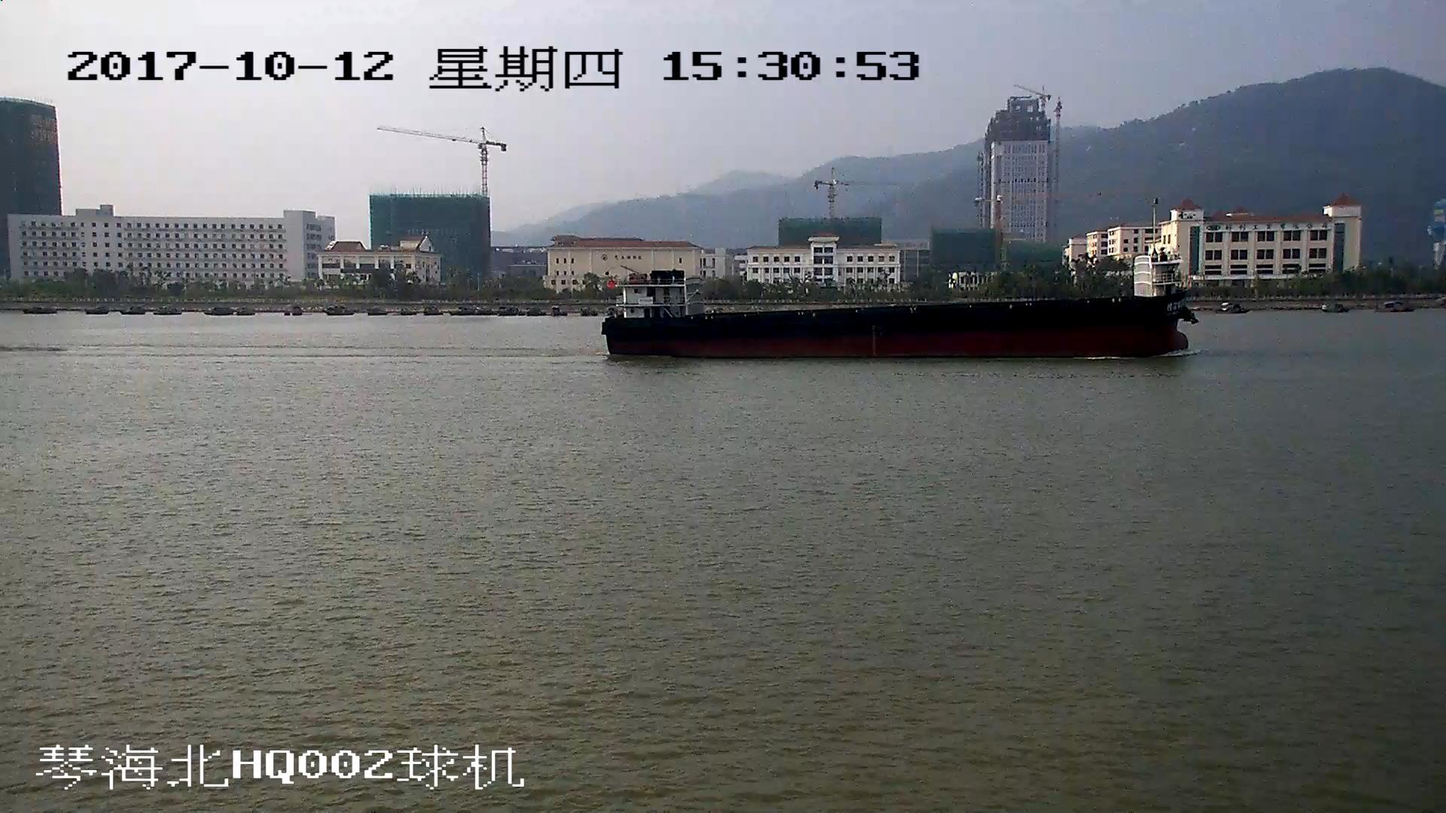general cargo ship: (606, 236, 1194, 358)
